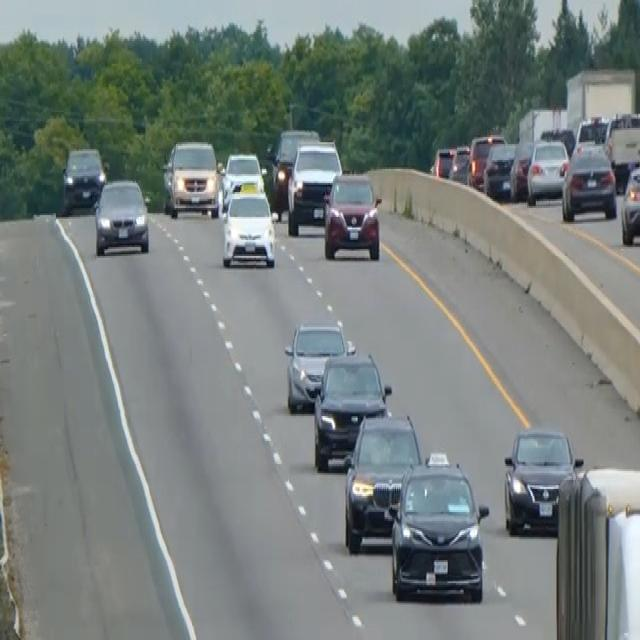car: (342, 411, 423, 553), (312, 347, 391, 471), (502, 423, 583, 535), (283, 318, 353, 412), (286, 137, 342, 235), (322, 169, 382, 259), (265, 126, 320, 217), (560, 140, 617, 222), (220, 185, 276, 268), (93, 176, 150, 256), (61, 144, 105, 210), (526, 137, 569, 204), (605, 110, 639, 185), (219, 150, 265, 204), (467, 132, 505, 188), (482, 141, 516, 199), (620, 160, 639, 245), (509, 137, 534, 199), (573, 114, 608, 149), (539, 125, 575, 156), (448, 142, 470, 183), (430, 144, 455, 178)
minivan: (388, 448, 490, 604), (162, 137, 219, 219)
